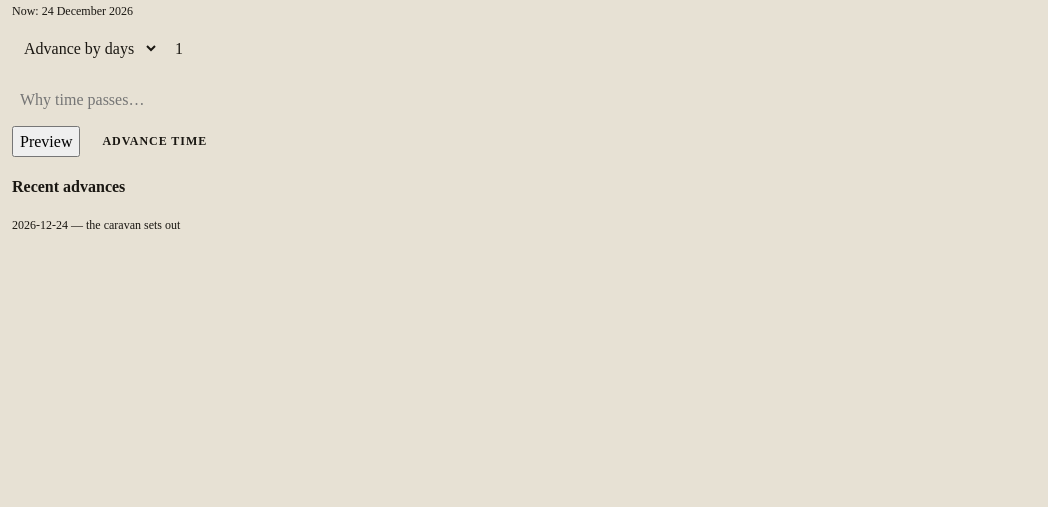
Test case: a confirmed advance the clock was already at does not claim to have moved
Expected: the text "Now: 24 December 2026" is shown, [12,4,133,18]
Replace the text in the number field named "Days" with "0" at (602, 48), box [167,31,1036,66]
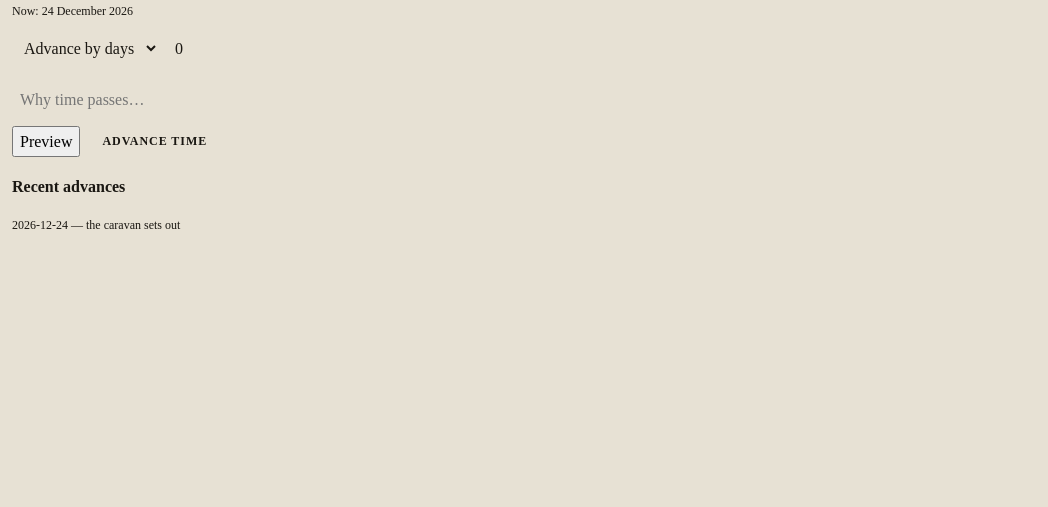
Type "nowhere" into the field named "Reason" at (120, 100), box [12,86,228,114]
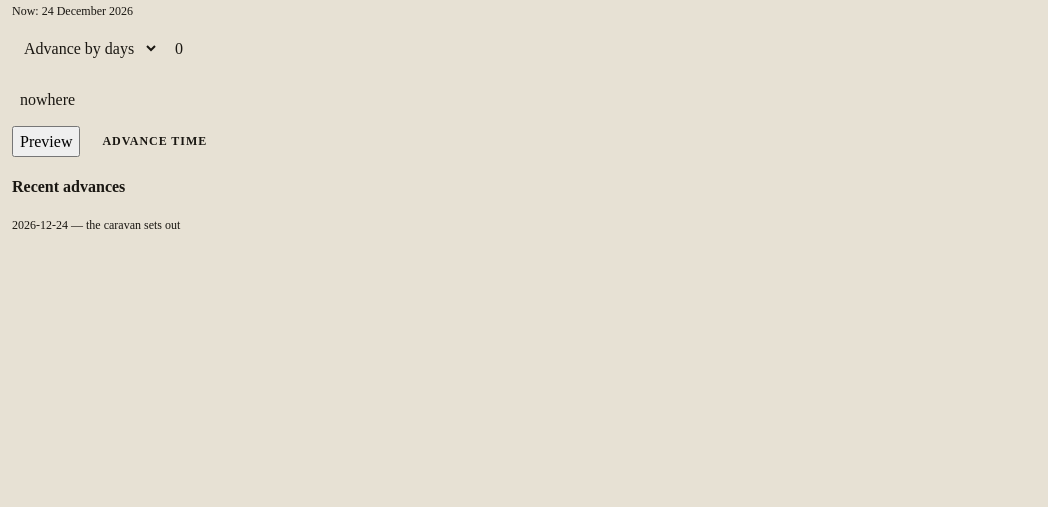
Click the button "Advance time" at (155, 142), box [88,126,221,157]
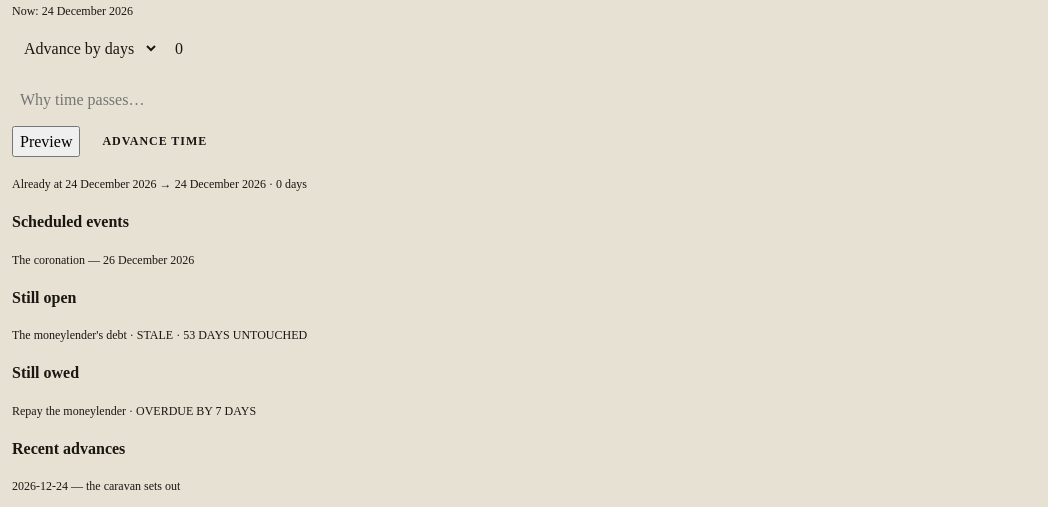
Expected: the text "Already at 24 December 2026 → 24 December 2026 · 0 days" is shown, [12,177,307,191]
